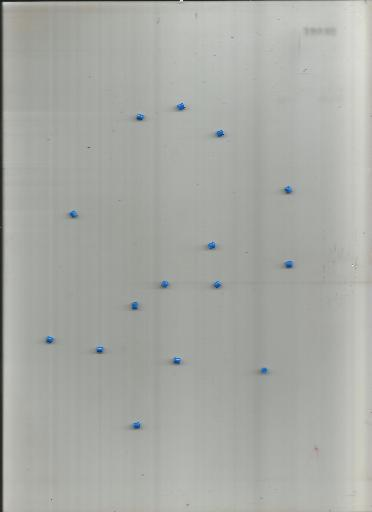Pellet: (213, 280, 223, 289), (284, 185, 293, 194), (207, 241, 216, 250), (69, 210, 78, 219), (136, 113, 145, 121), (173, 356, 181, 365), (96, 345, 104, 354), (46, 335, 54, 344), (161, 280, 169, 288), (133, 421, 141, 429), (177, 103, 186, 110), (216, 130, 225, 137), (285, 261, 293, 268), (261, 367, 267, 374), (132, 302, 138, 309)
